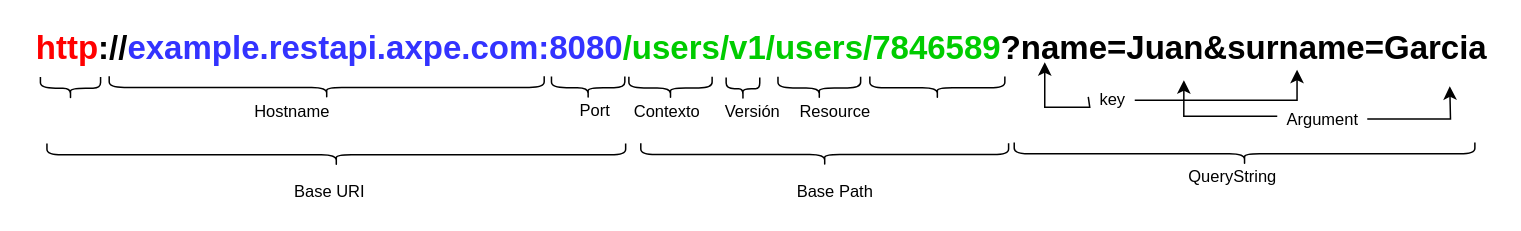
This 1521x231 diagram has some shape labels left out. Here are the shapes that lost their labels. From the top down, the centre of each, then its label:
pixel 69 87: Scheme
pixel 936 87: PathParam
